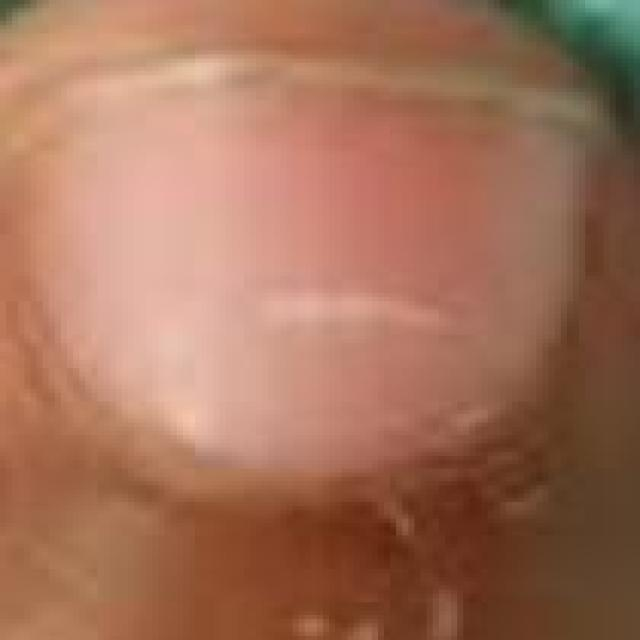Nail: (31, 53, 599, 497)
